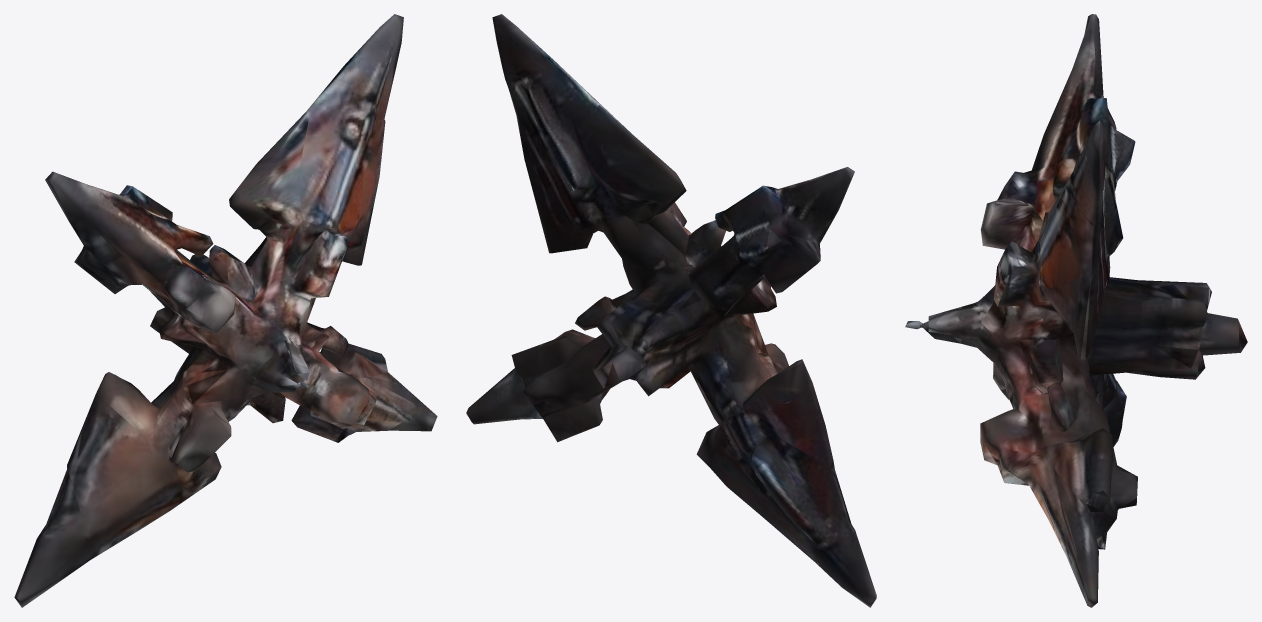
Rendered from savager_scrapfang.glb.
3 views of the same model, side by side, from view 1: azimuth 30°, elevation 25°; view 2: azimuth 150°, elevation 25°; view 3: azimuth 270°, elevation 25° (orthographic). The views are drawn at different scales.
Visible parts, largest first — view 1: raider_fighter_a; view 2: raider_fighter_a; view 3: raider_fighter_a.
Part boxes in pixels (left/top/right/bottom): raider_fighter_a: left=14, top=14, right=437, bottom=607; raider_fighter_a: left=466, top=14, right=876, bottom=607; raider_fighter_a: left=905, top=14, right=1247, bottom=607.
Size of the model in its own units: 0.097 by 0.1124 by 0.0621.
1 material, 1 textured.
